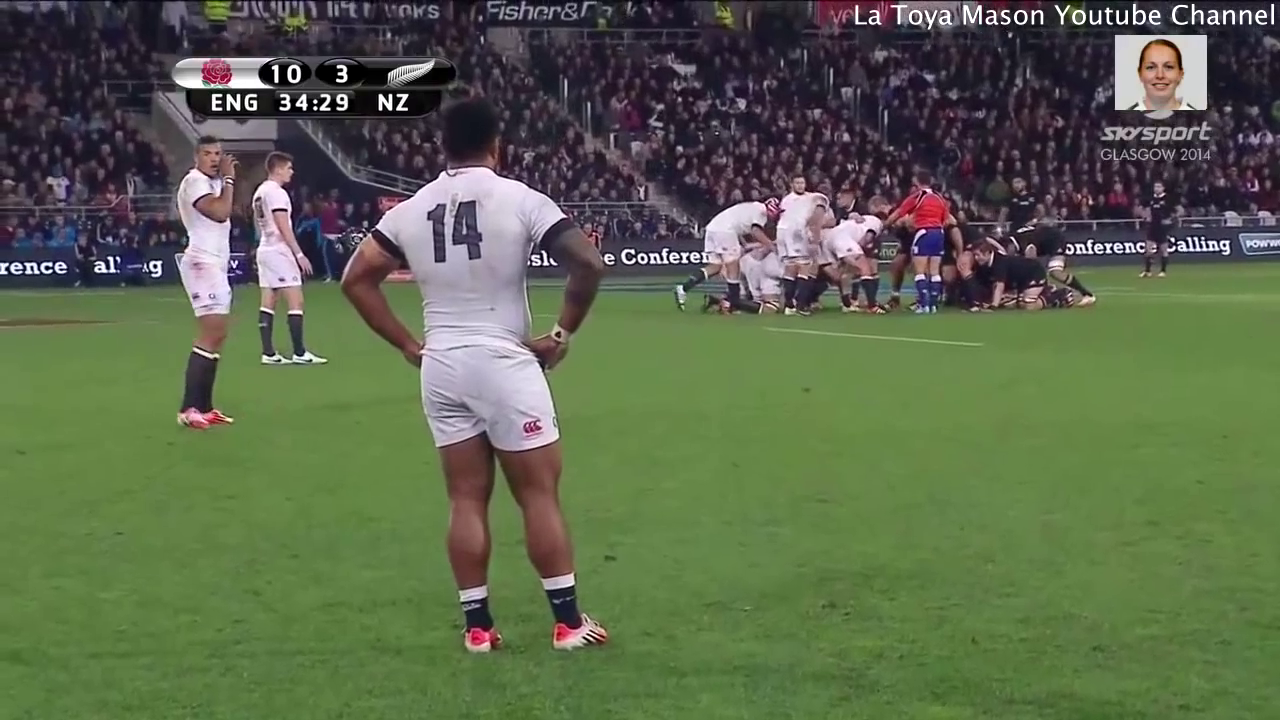player: (341, 91, 633, 679), (163, 132, 242, 445), (236, 140, 329, 369), (667, 189, 781, 313), (882, 165, 947, 318), (994, 220, 1108, 306), (774, 178, 835, 310), (966, 240, 1070, 312), (817, 212, 887, 318)
